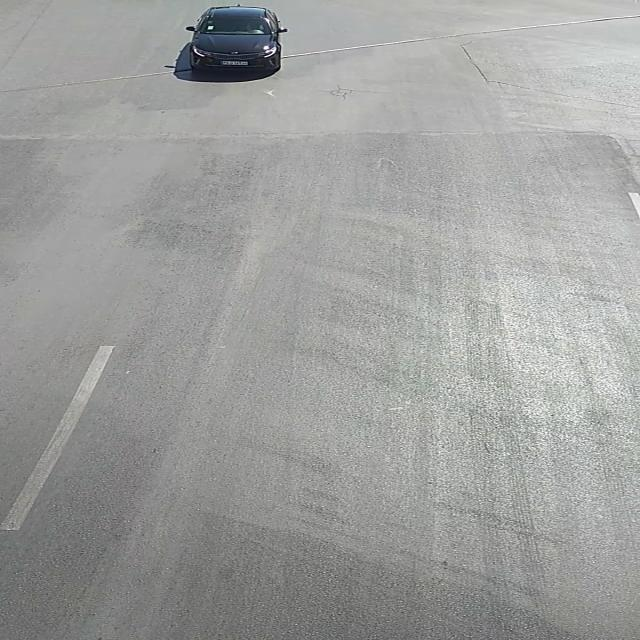car: (187, 7, 287, 74)
